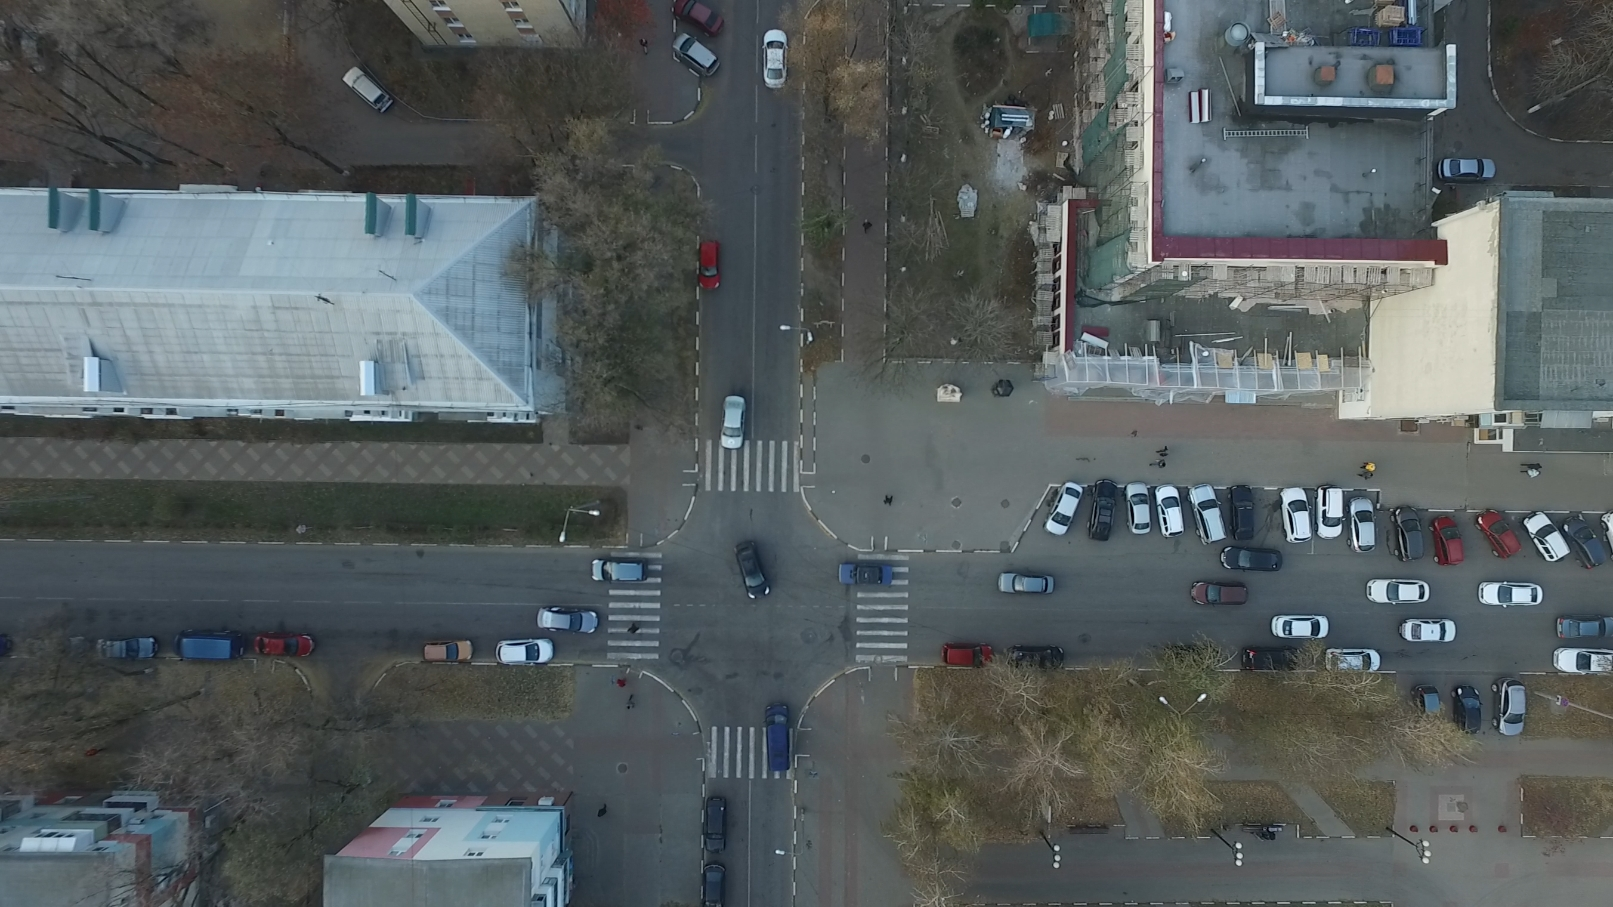car: (1522, 509, 1573, 565), (338, 63, 395, 112), (1559, 512, 1607, 568), (732, 542, 779, 600), (1186, 484, 1229, 548), (1475, 506, 1521, 563), (1491, 673, 1530, 736), (169, 629, 242, 662), (1046, 480, 1087, 536), (1083, 480, 1119, 544), (670, 1, 723, 43), (1431, 511, 1470, 567), (1389, 504, 1426, 564), (1153, 483, 1190, 542), (1280, 487, 1314, 547), (672, 35, 719, 79), (1478, 580, 1547, 608), (1550, 645, 1613, 674), (1219, 545, 1282, 575), (1227, 485, 1260, 544), (766, 700, 791, 773), (496, 635, 554, 666), (535, 606, 599, 633), (1124, 480, 1155, 535), (1271, 611, 1329, 640), (1399, 615, 1458, 643), (32, 637, 97, 662), (1006, 643, 1066, 671), (1453, 686, 1486, 736), (1348, 497, 1377, 554), (1314, 487, 1343, 544), (1366, 577, 1429, 602), (1326, 647, 1384, 674), (1555, 614, 1613, 641), (1437, 155, 1496, 182), (97, 637, 161, 661), (254, 632, 314, 658), (1189, 583, 1250, 607), (1164, 645, 1220, 671), (763, 30, 788, 90), (720, 395, 747, 450), (1244, 648, 1305, 671), (1414, 681, 1445, 726), (997, 571, 1055, 596), (941, 642, 993, 669), (592, 558, 648, 583), (420, 639, 472, 664), (703, 795, 726, 853), (838, 564, 893, 586), (698, 241, 721, 292), (703, 865, 727, 907), (1, 635, 18, 653)
